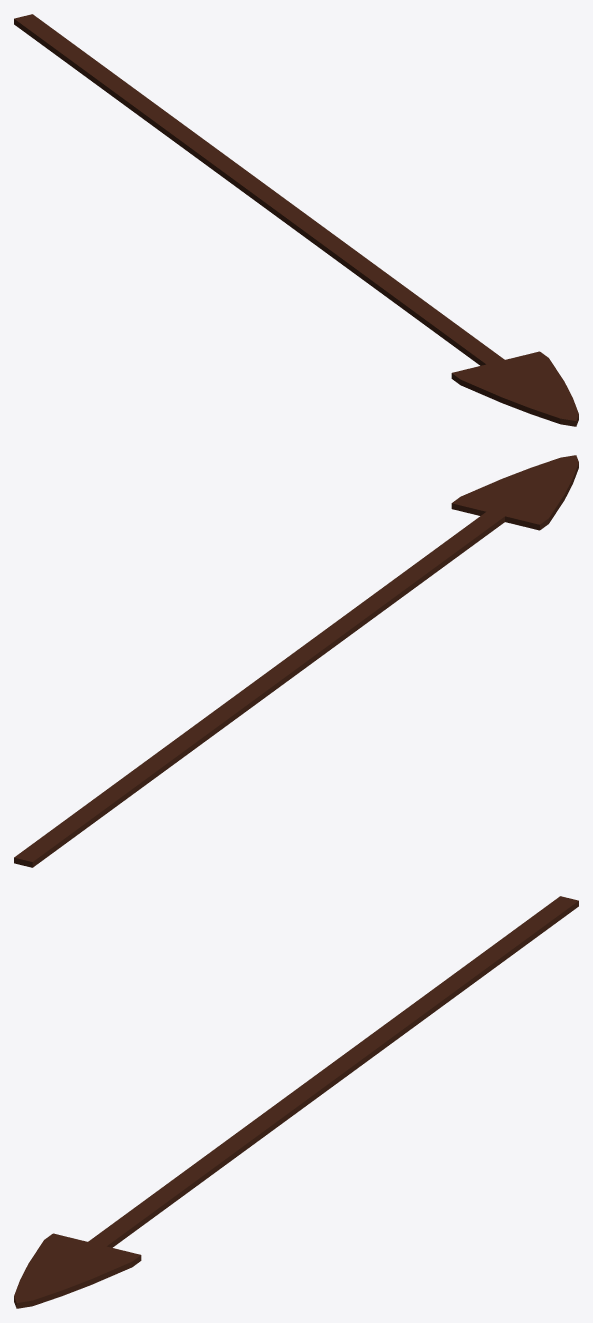
File: Arrow Bulllet.FBX
3 renders of one model, top to bottom at view 1: azimuth 30°, elevation 25°; view 2: azimuth 150°, elevation 25°; view 3: azimuth 330°, elevation 25°, orthographic.
Visible parts, largest first — view 1: Object001; view 2: Object001; view 3: Object001.
Boxes of the visible parts, box(x1,y1,x2,y2) form: Object001: box(14, 14, 578, 426); Object001: box(14, 455, 578, 867); Object001: box(14, 896, 578, 1308).
Size of the model in its own units: 7.87 by 0.4901 by 85.35.
